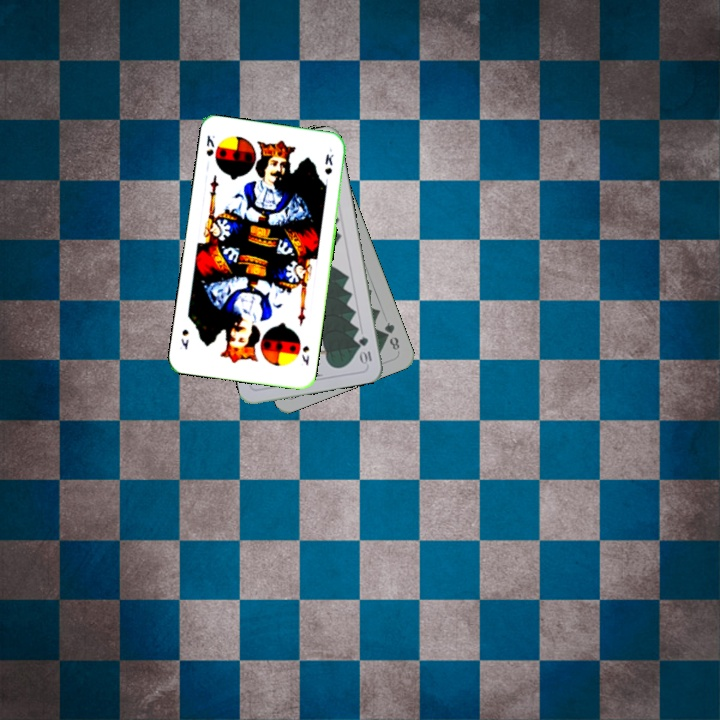G10: (355, 333, 374, 367)
G8: (380, 318, 402, 353)
SK: (202, 131, 217, 159), (298, 342, 312, 368)
